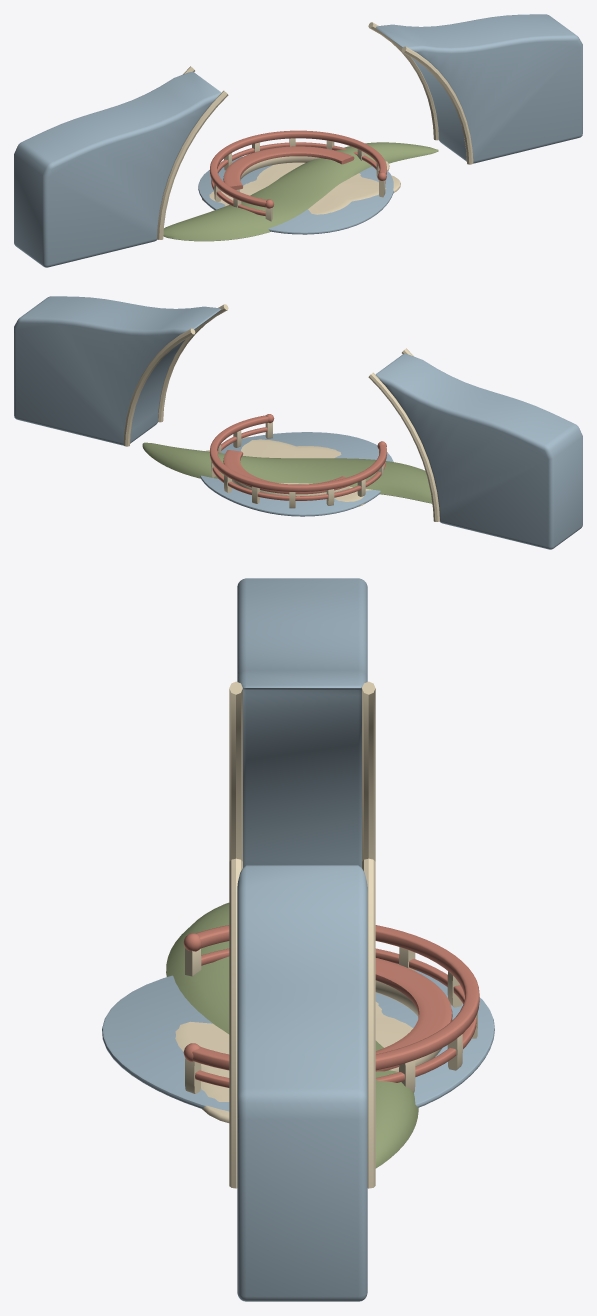
Rendered from playroom-floor-modules.glb.
The picture shows the model from 3 angles, top to bottom: view 1: azimuth 30°, elevation 25°; view 2: azimuth 150°, elevation 25°; view 3: azimuth 270°, elevation 25°; orthographic projection. The views are drawn at different scales.
Visible parts, largest first — view 1: RainbowWallJoin — Faded blue soft vinyl, SoftMeadowBerm — Meadow grass carpet, PaddedFenceIsland — Faded coral fabric, PaddedFenceIsland — Faded blue soft vinyl, RainbowWallJoin — Cream soft padding, CloudCarpet — Cream soft padding, PaddedFenceIsland — Cream plastic post; view 2: RainbowWallJoin — Faded blue soft vinyl, SoftMeadowBerm — Meadow grass carpet, PaddedFenceIsland — Faded blue soft vinyl, PaddedFenceIsland — Faded coral fabric, RainbowWallJoin — Cream soft padding, CloudCarpet — Cream soft padding, PaddedFenceIsland — Cream plastic post; view 3: RainbowWallJoin — Faded blue soft vinyl, PaddedFenceIsland — Faded blue soft vinyl, PaddedFenceIsland — Faded coral fabric, RainbowWallJoin — Cream soft padding, SoftMeadowBerm — Meadow grass carpet, CloudCarpet — Cream soft padding, PaddedFenceIsland — Cream plastic post.
Boxes of the visible parts, left/top/right/bottom form: RainbowWallJoin — Faded blue soft vinyl: left=14, top=14, right=582, bottom=267; SoftMeadowBerm — Meadow grass carpet: left=163, top=142, right=438, bottom=241; PaddedFenceIsland — Faded coral fabric: left=209, top=130, right=387, bottom=216; PaddedFenceIsland — Faded blue soft vinyl: left=198, top=157, right=393, bottom=234; RainbowWallJoin — Cream soft padding: left=157, top=22, right=473, bottom=239; CloudCarpet — Cream soft padding: left=202, top=161, right=400, bottom=214; PaddedFenceIsland — Cream plastic post: left=211, top=138, right=385, bottom=221; RainbowWallJoin — Faded blue soft vinyl: left=14, top=296, right=582, bottom=549; SoftMeadowBerm — Meadow grass carpet: left=142, top=442, right=432, bottom=503; PaddedFenceIsland — Faded blue soft vinyl: left=200, top=432, right=393, bottom=516; PaddedFenceIsland — Faded coral fabric: left=209, top=414, right=387, bottom=500; RainbowWallJoin — Cream soft padding: left=123, top=304, right=439, bottom=521; CloudCarpet — Cream soft padding: left=205, top=437, right=372, bottom=506; PaddedFenceIsland — Cream plastic post: left=211, top=422, right=383, bottom=508; RainbowWallJoin — Faded blue soft vinyl: left=237, top=578, right=367, bottom=1301; PaddedFenceIsland — Faded blue soft vinyl: left=102, top=964, right=494, bottom=1111; PaddedFenceIsland — Faded coral fabric: left=183, top=925, right=479, bottom=1087; RainbowWallJoin — Cream soft padding: left=229, top=681, right=375, bottom=1188; SoftMeadowBerm — Meadow grass carpet: left=166, top=902, right=418, bottom=1168; CloudCarpet — Cream soft padding: left=175, top=1002, right=413, bottom=1122; PaddedFenceIsland — Cream plastic post: left=185, top=947, right=477, bottom=1093.
Bounding box in the file's own units: 22 × 5.28 × 6.93.
